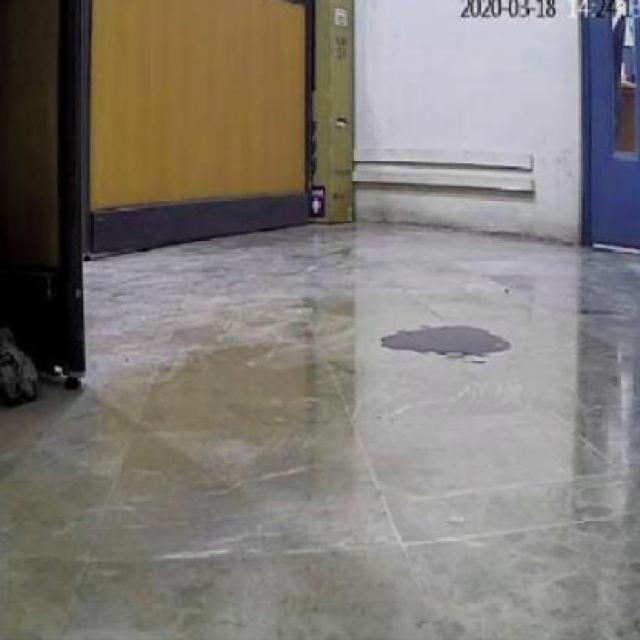spillage: (384, 323, 506, 364)
